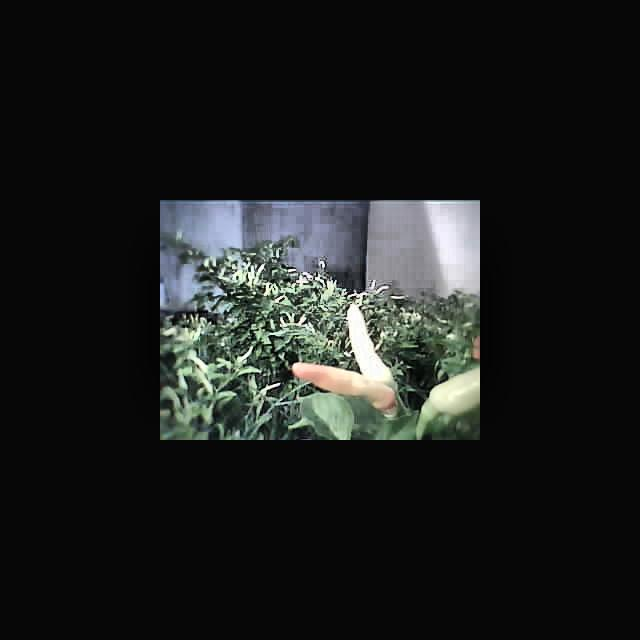Cabai: (291, 357, 396, 409)
